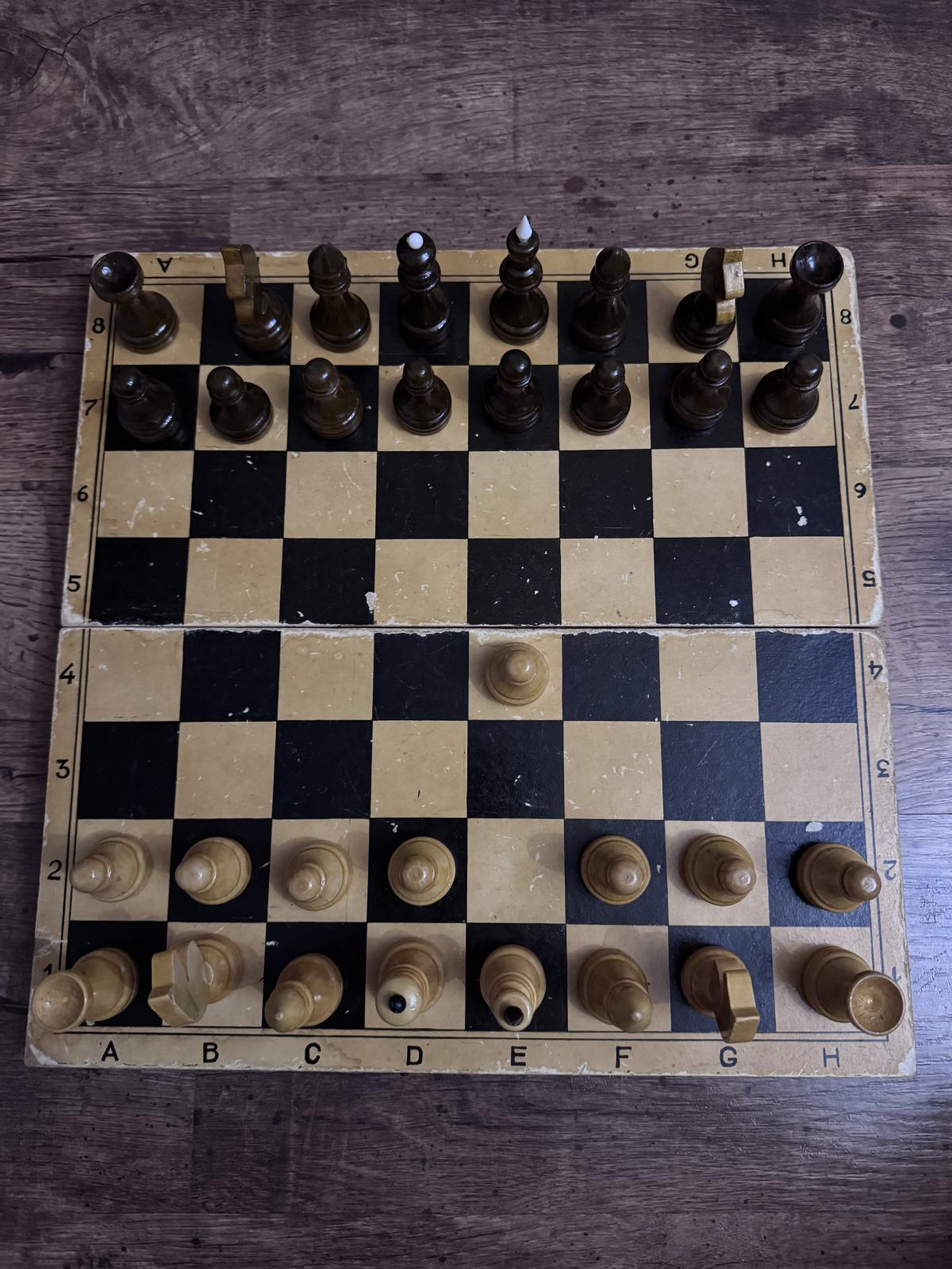Chess-Board: (62, 283, 874, 1032)
